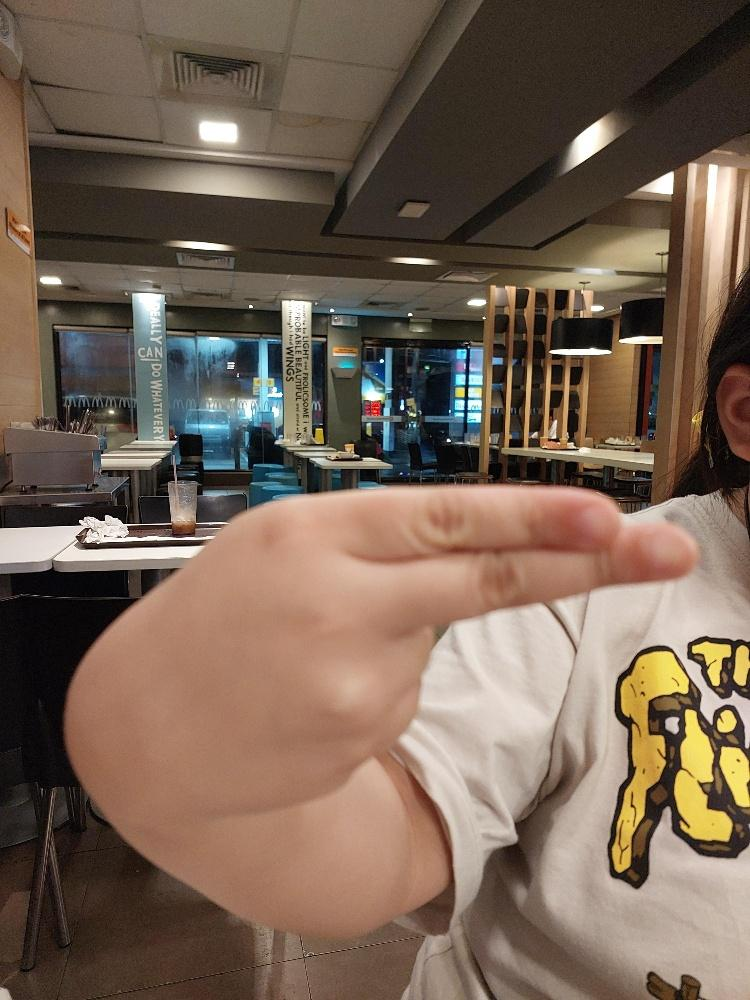h: (61, 478, 698, 818)
